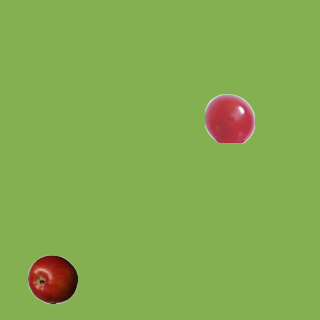Apple Braeburn: (27, 254, 77, 304)
Redcurrant: (204, 93, 254, 143)
